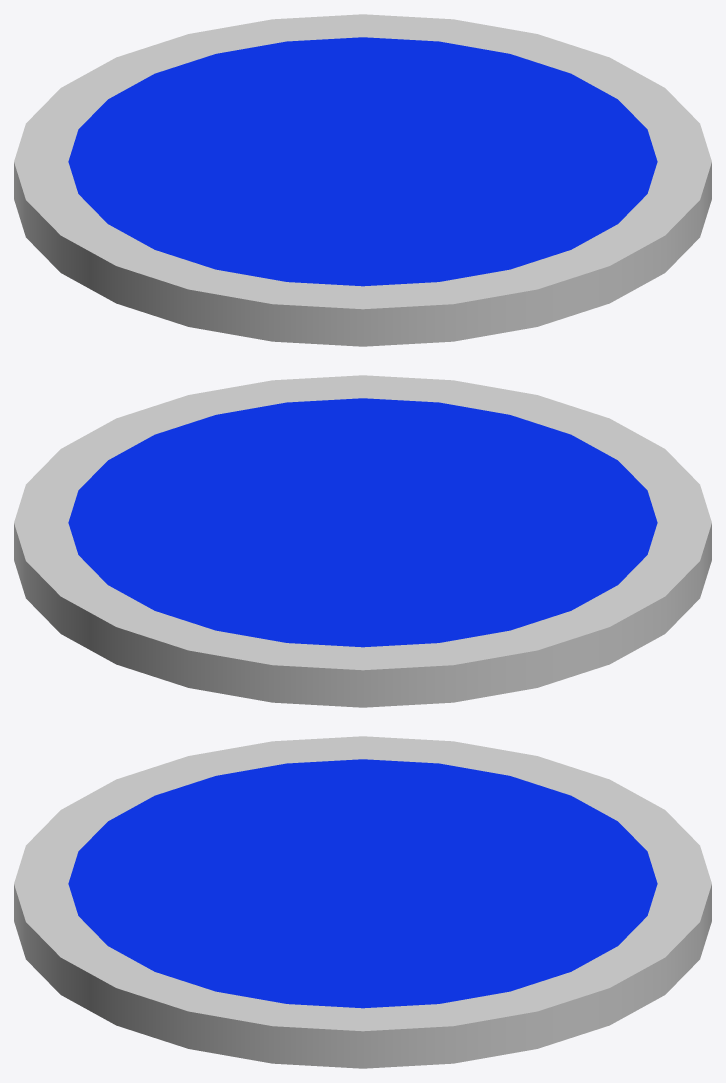
The model's file is map_car_location.obj.
The picture shows the model from 3 angles, top to bottom: view 1: azimuth 30°, elevation 25°; view 2: azimuth 150°, elevation 25°; view 3: azimuth 270°, elevation 25°; orthographic projection.
Visible parts, largest first — view 1: map_car_location; view 2: map_car_location; view 3: map_car_location.
Boxes of the visible parts, x1,y1,x2,y2 form: map_car_location: (14, 14, 711, 346); map_car_location: (14, 375, 711, 707); map_car_location: (14, 736, 711, 1068).
Size of the model in its own units: 4.84 by 0.2867 by 4.84.
